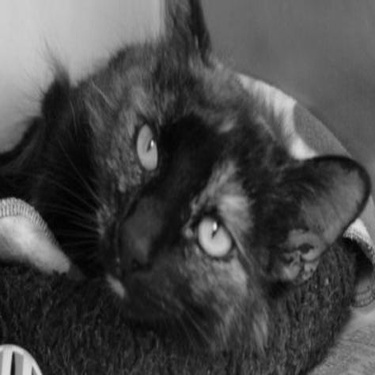cat: (4, 4, 362, 358)
